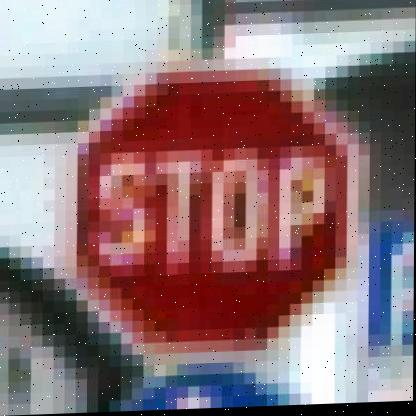Stop Sign: (66, 57, 375, 361)
